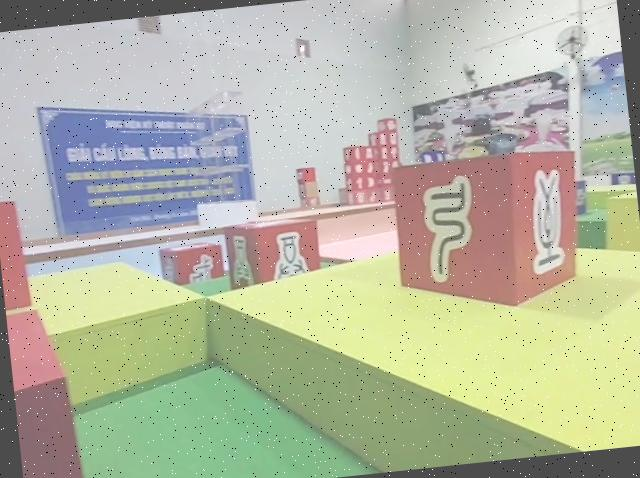R2 Fake: (385, 143, 590, 321)
R2 Real: (223, 213, 325, 297), (159, 239, 225, 291)
